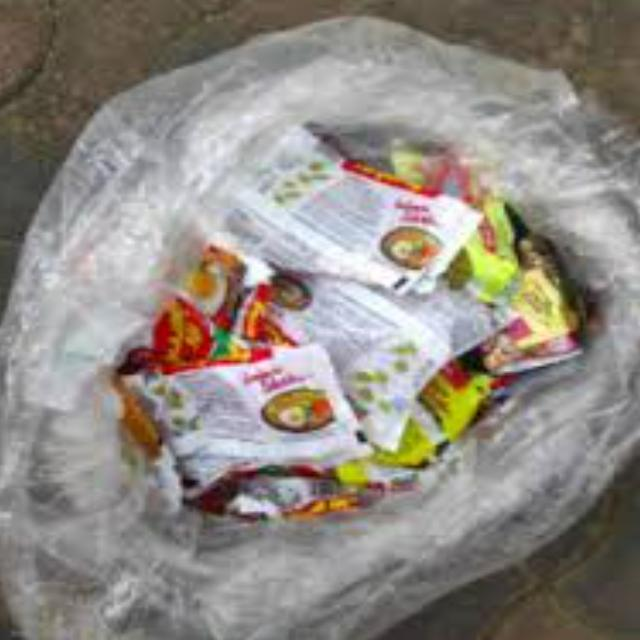KemasanPlastik: (108, 123, 589, 526)
